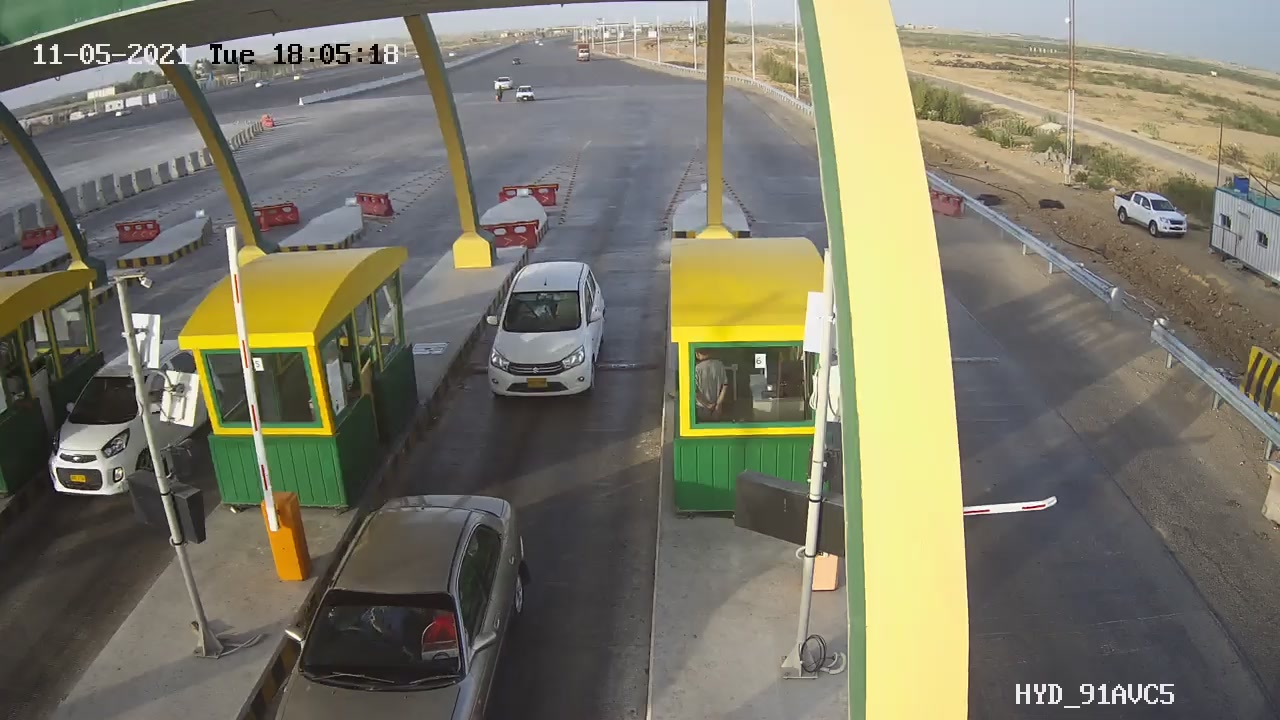F1: (477, 249, 620, 413)
